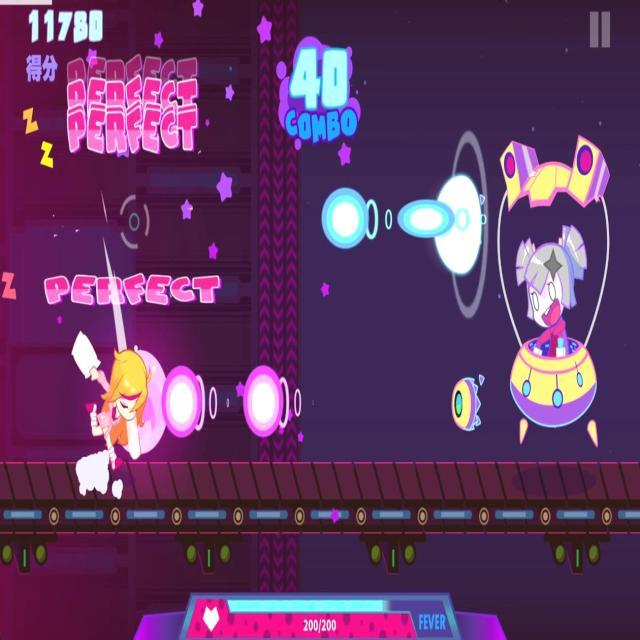qiangboss: (452, 120, 609, 452)
yuan: (397, 181, 473, 254), (320, 181, 392, 254), (162, 364, 230, 438), (242, 365, 299, 439)
